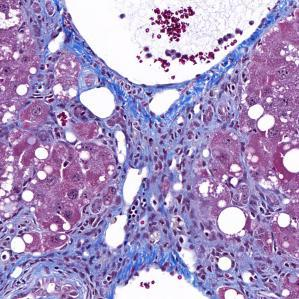fibrosis: (86, 196, 228, 278), (113, 84, 234, 169)
